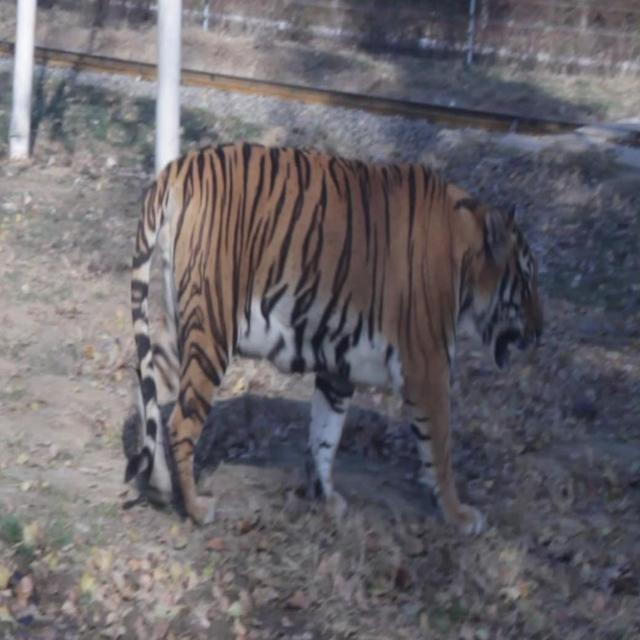tiger: (114, 120, 552, 546)
